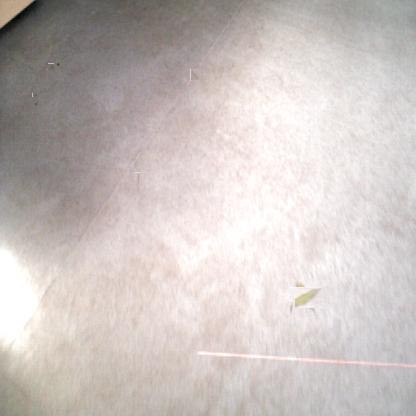dirty: (292, 284, 319, 311)
mark: (287, 300, 295, 315), (190, 70, 199, 82), (134, 172, 140, 187), (48, 63, 55, 70), (32, 101, 38, 108), (55, 61, 61, 67), (33, 93, 39, 98)
